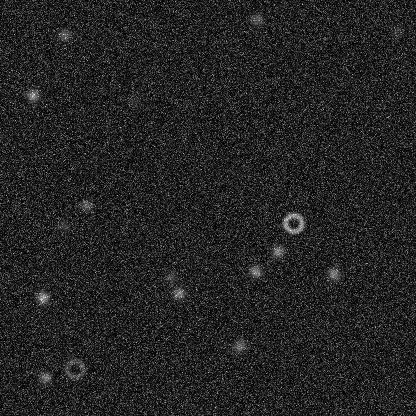Ring: (62, 356, 86, 380), (281, 211, 305, 235)
Spot: (247, 10, 263, 26), (24, 87, 40, 103), (231, 338, 247, 354), (56, 27, 72, 43), (170, 285, 186, 301), (247, 263, 263, 279), (325, 265, 341, 281), (389, 24, 405, 40), (269, 243, 285, 259), (54, 217, 70, 233), (77, 197, 93, 213), (162, 269, 178, 285), (37, 369, 53, 385), (34, 289, 50, 305), (124, 93, 140, 109)
